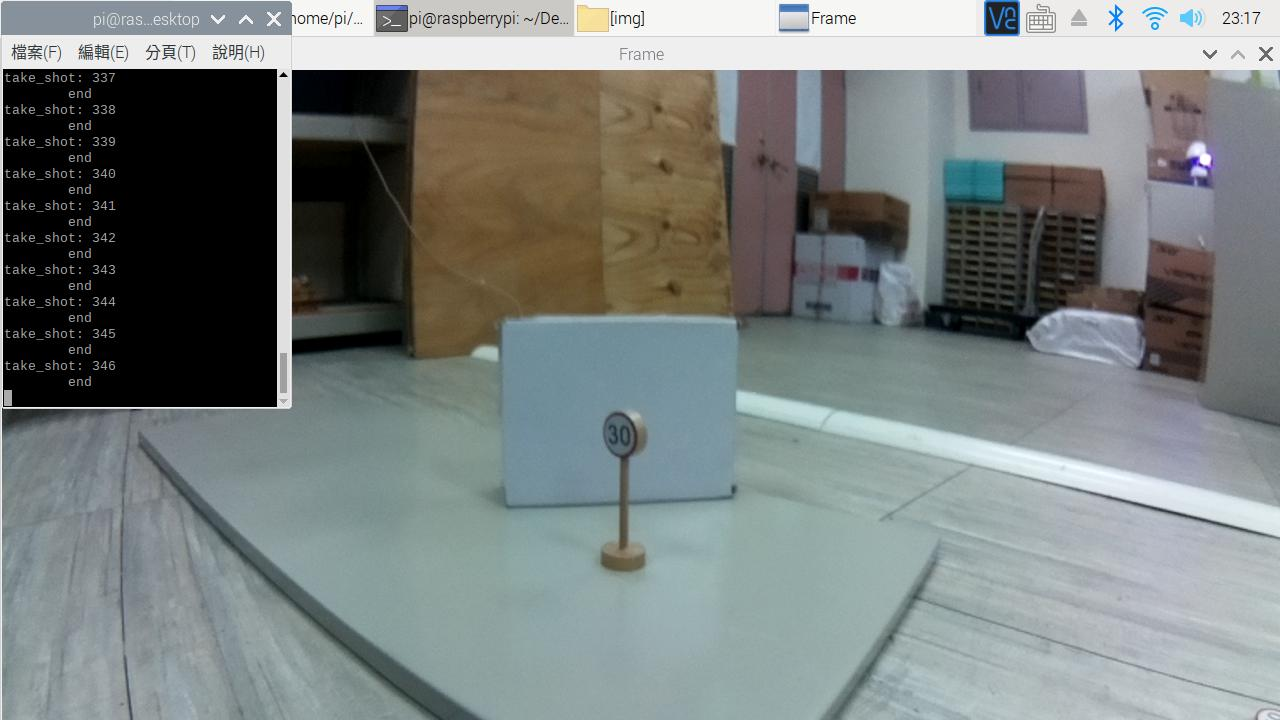Speed30: (582, 405, 668, 477)
